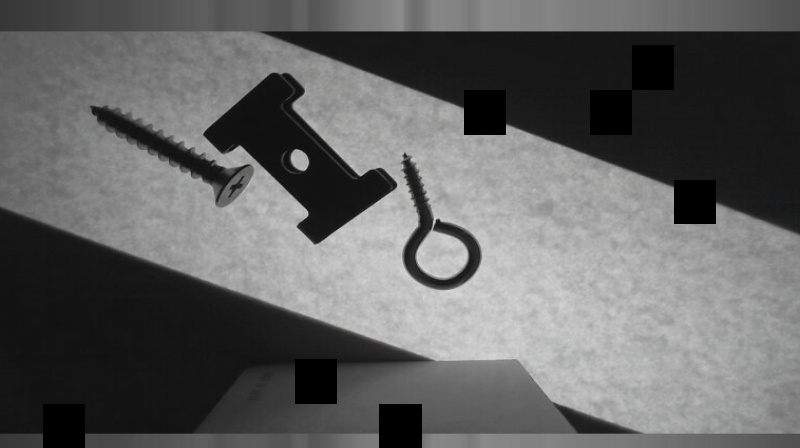O001: (397, 149, 484, 290)
O002: (200, 72, 399, 245)
S001: (86, 102, 252, 207)
